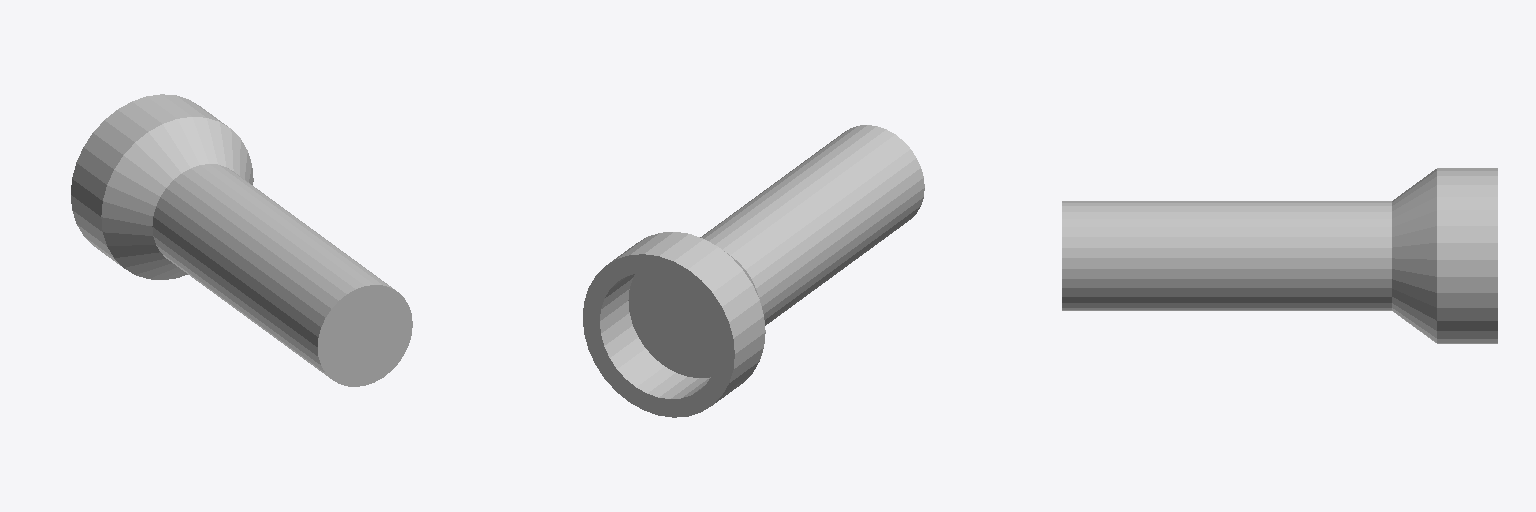
Rendered from flashlight.obj.
3 views of the same model, side by side, from view 1: azimuth 30°, elevation 25°; view 2: azimuth 150°, elevation 25°; view 3: azimuth 270°, elevation 25° (orthographic).
Visible parts, largest first — view 1: Cylinder; view 2: Cylinder; view 3: Cylinder.
Boxes of the visible parts, box(x1,y1,x2,y2) form: Cylinder: box(71, 94, 412, 386); Cylinder: box(583, 125, 924, 417); Cylinder: box(1062, 168, 1497, 343).
Size of the model in its own units: 3.2 by 3.2 by 7.95.